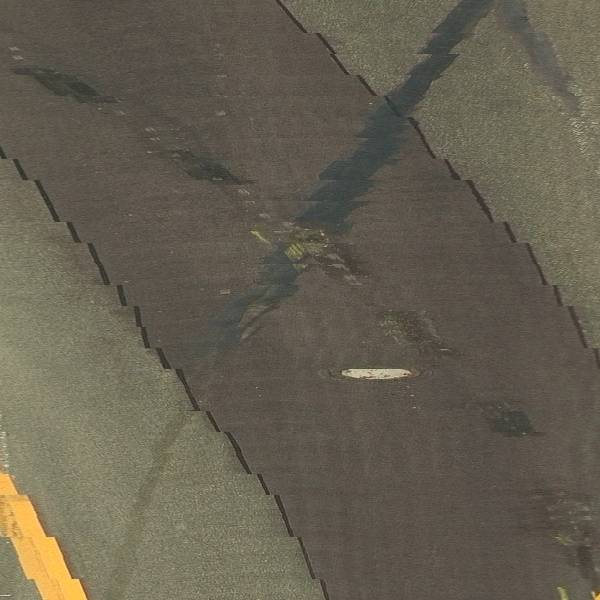road_damage: (1, 145, 325, 595), (281, 8, 600, 356), (327, 363, 433, 382)
